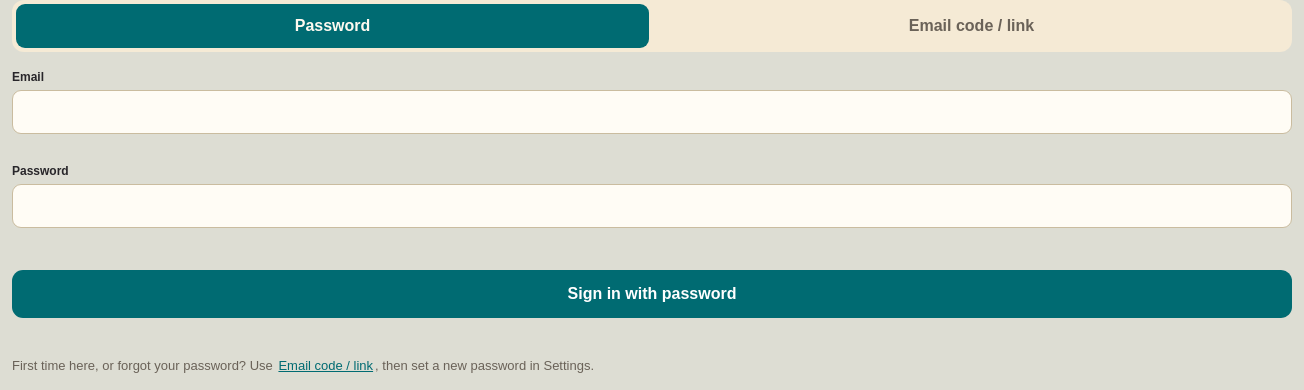
Test: in-app email login › keeps verification errors visible and allows a fresh credential
The width and height of the screenshot is (1304, 390).
Click the tab "Email code / link" at (972,26), box [655,4,1288,48]
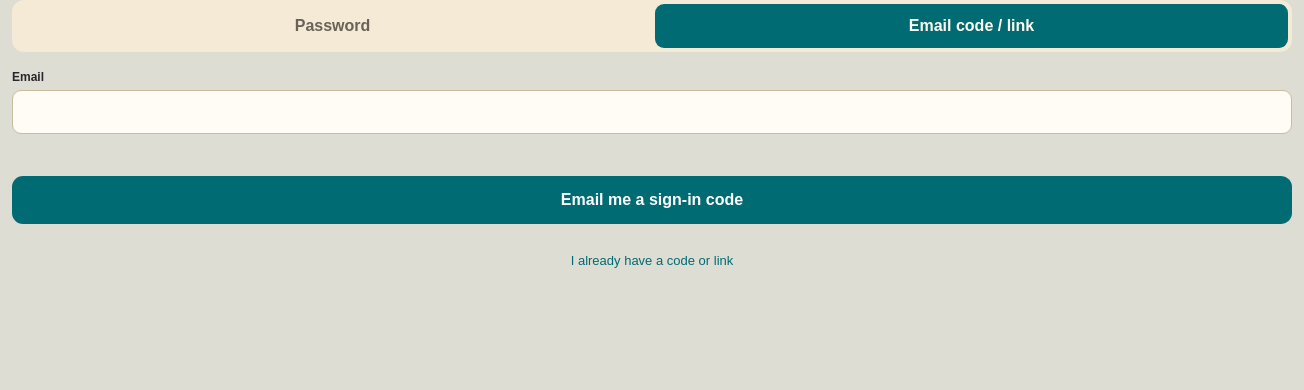
Type "Traveller@example.com" into the field labelled "Email" at (652,112), box [12,90,1292,134]
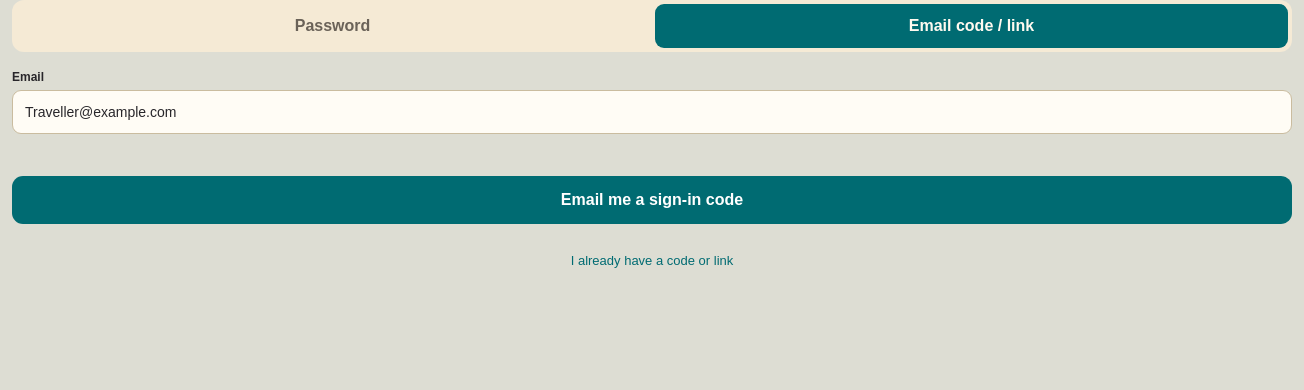
Click the button "Email me a sign-in code" at (652,200), box [12,176,1292,224]
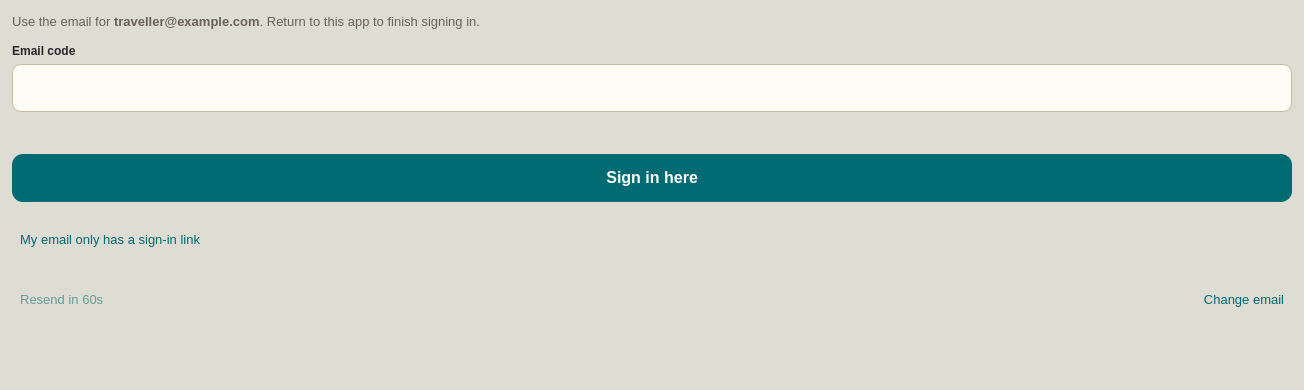
Check: the field labelled "Email code" is shown
Type "123456" into the field labelled "Email code" at (652,88), box [12,64,1292,112]
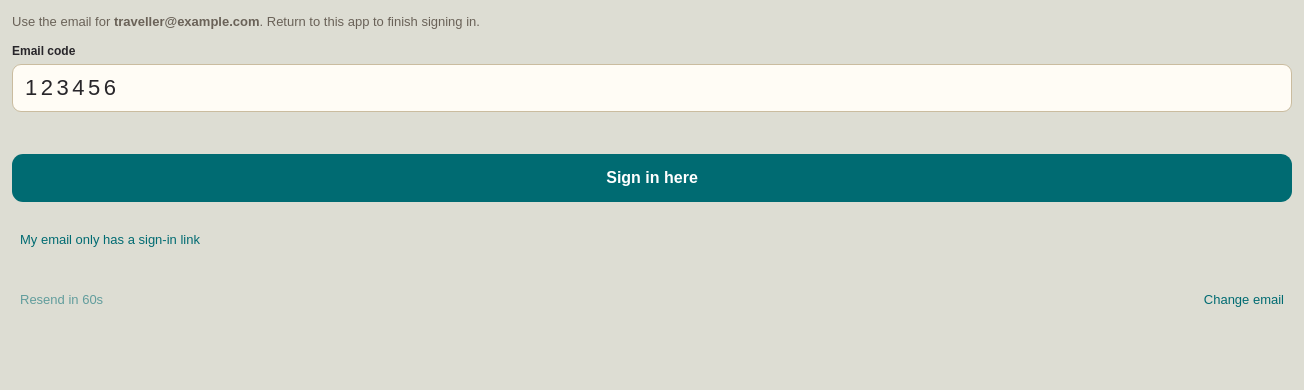
Click the button "Sign in here" at (652,178), box [12,154,1292,202]
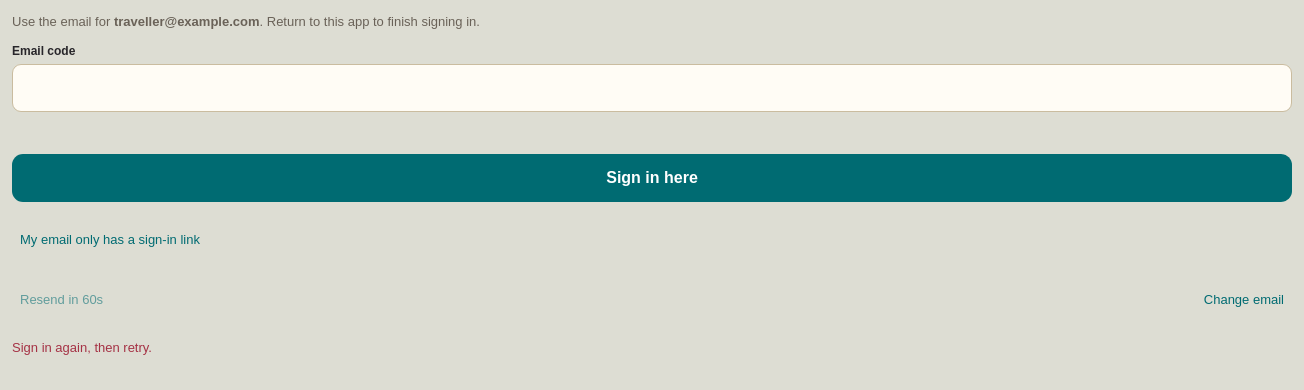
Check: the field labelled "Email code" is enabled, box [12,64,1292,112]
Check: the message "Sign in again, then retry." is shown, box [12,340,152,354]
Check: the field labelled "Email code" is empty, box [12,64,1292,112]
